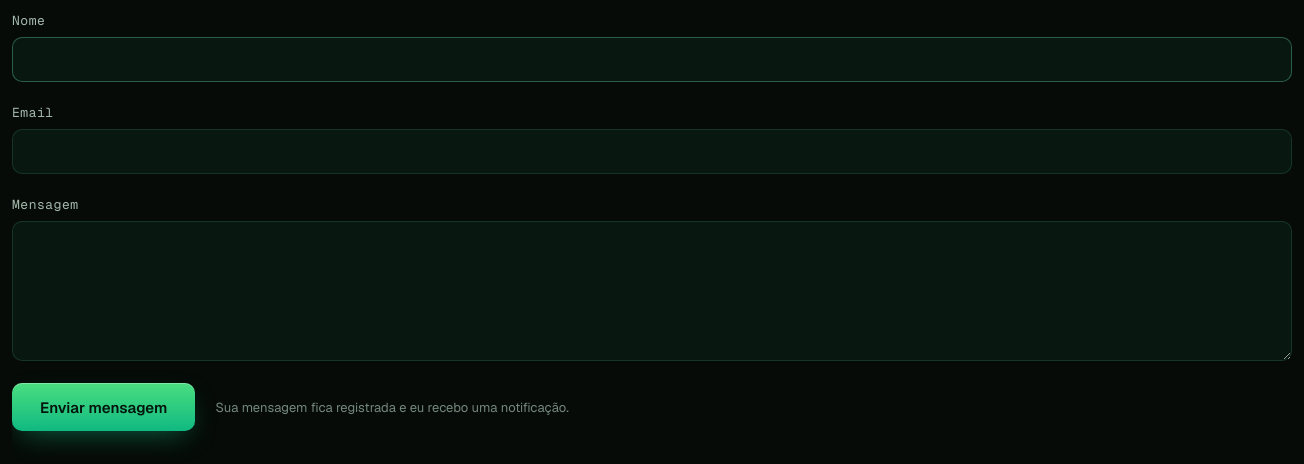
Scenario: ContactForm › submits the message and shows the success state
The image size is (1304, 464).
Type "Ana" into the field labelled "Nome" at (652, 60), box 12,37 -> 1292,82
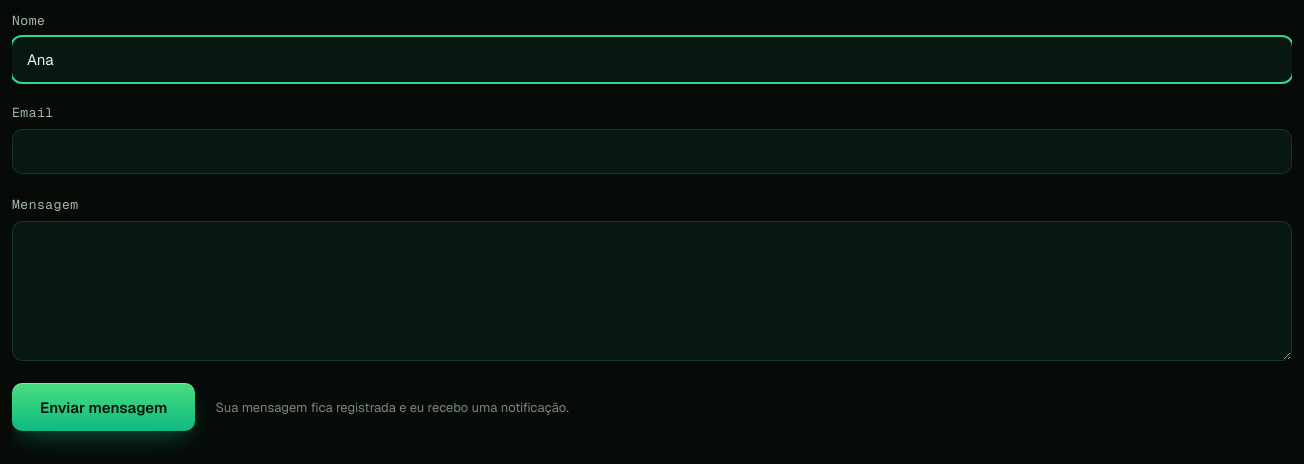
Type "ana@example.com" into the field labelled "Email" at (652, 152), box 12,129 -> 1292,174
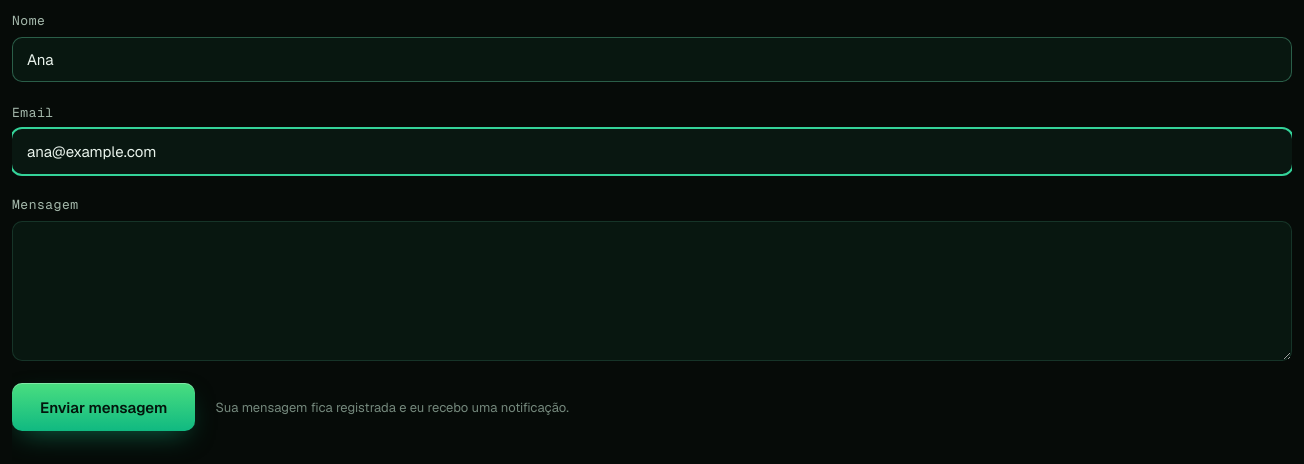
Type "Olá, Victor!" into the text box labelled "Mensagem" at (652, 291), box 12,221 -> 1292,361
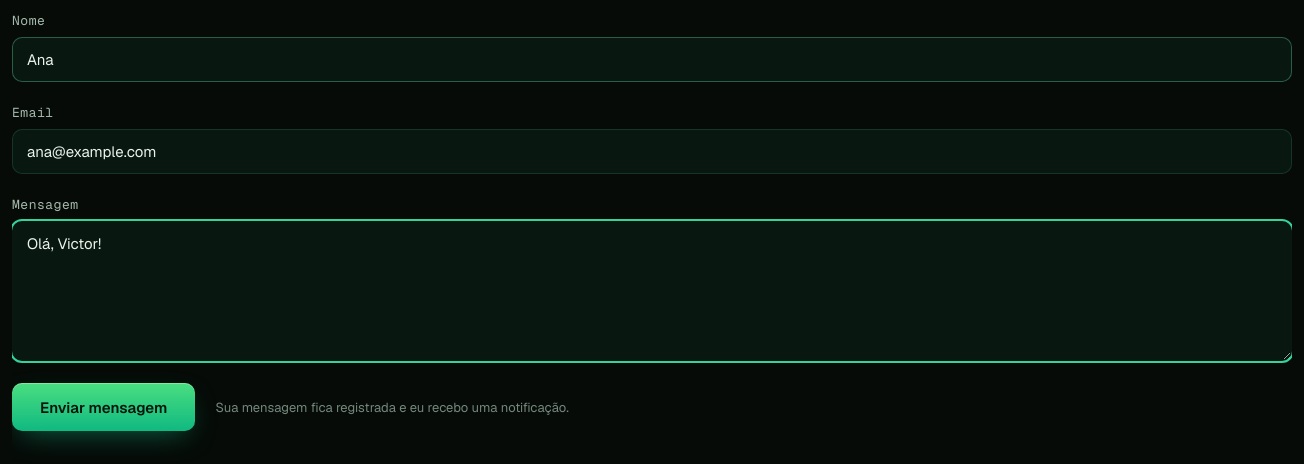
Click the button "Enviar mensagem" at (104, 407), box 12,383 -> 195,431
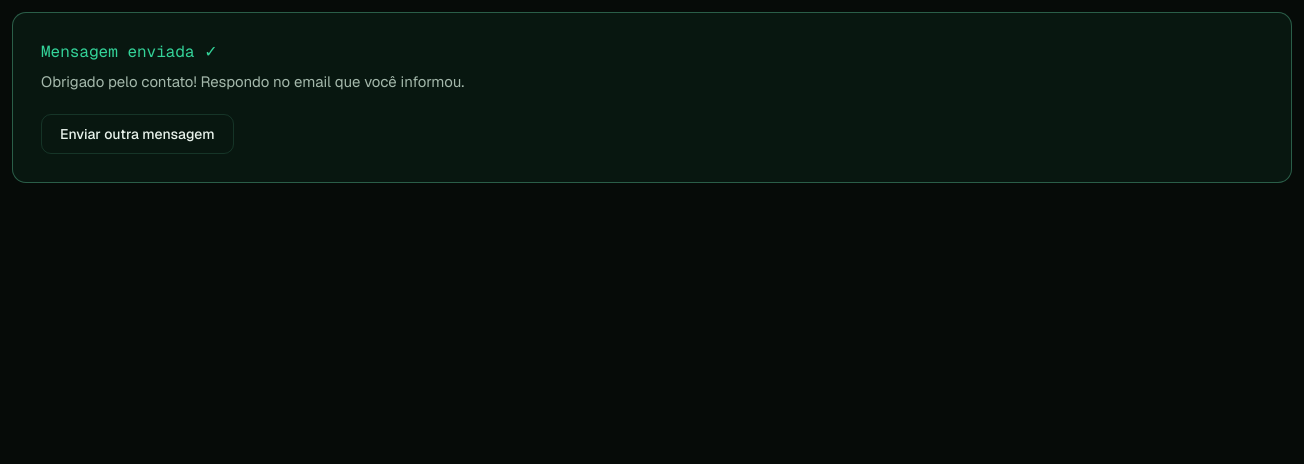
Check: the text "Mensagem enviada ✓" is shown, box 41,41 -> 218,62
